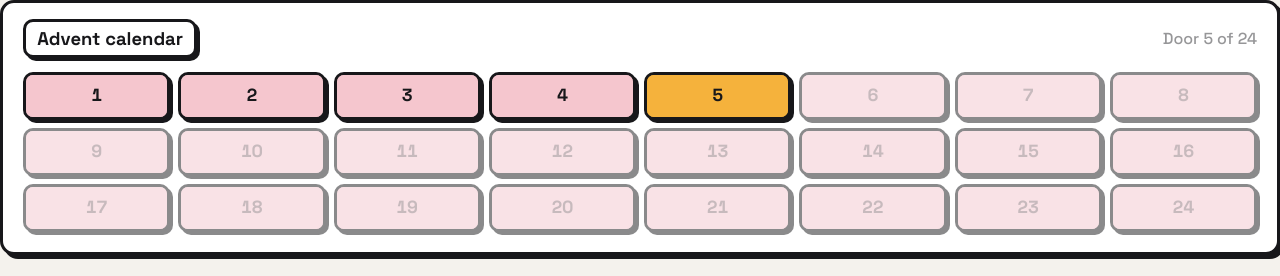
Test: AdventCalendar on Home › opens a door on press and shows that day’s album as a card
The width and height of the screenshot is (1280, 276).
Click the button with class "advent-door" showing "♪ 3".
click(407, 96)  # box x1=334 y1=72 x2=481 y2=120
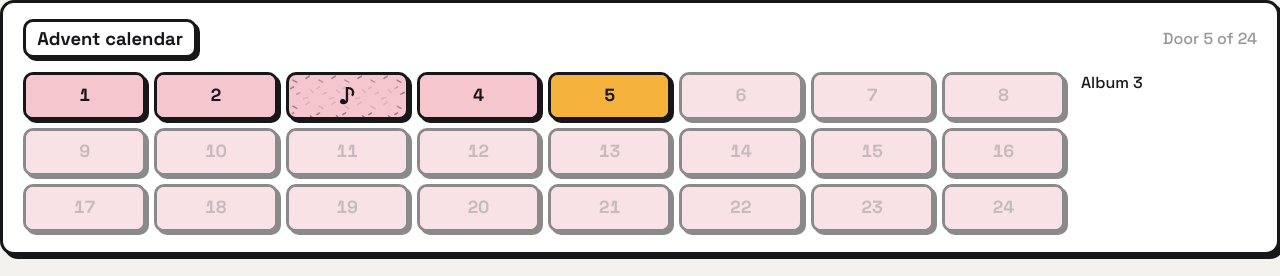
Now the text with class "album-card-stub" reads "Album 3", box x1=1081 y1=72 x2=1143 y2=93
